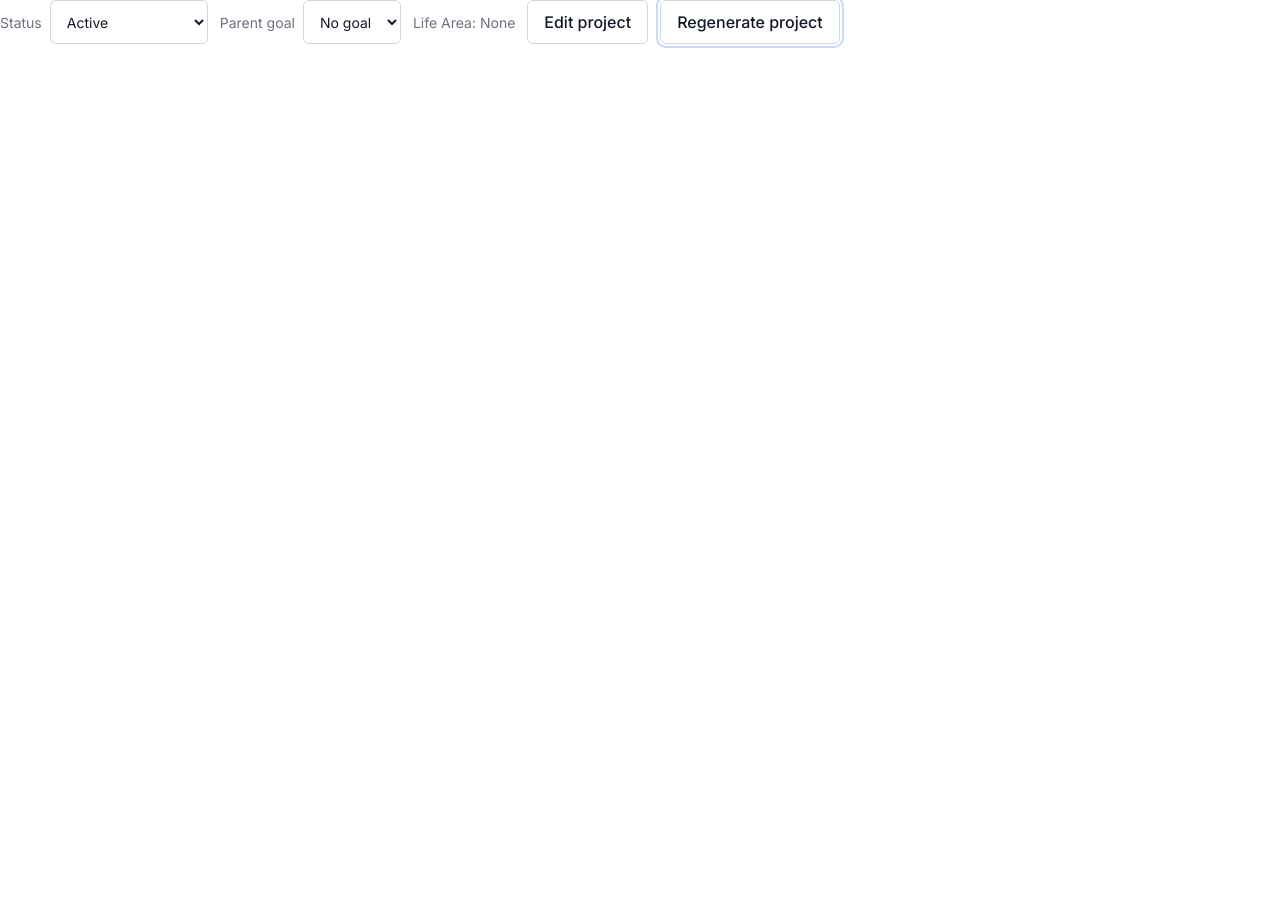
Test: ProjectDetailClient › surfaces a timeout message on a 504 regeneration
The width and height of the screenshot is (1280, 900).
Click the button "Regenerate project" at point(750, 22), box [660, 0, 840, 44]
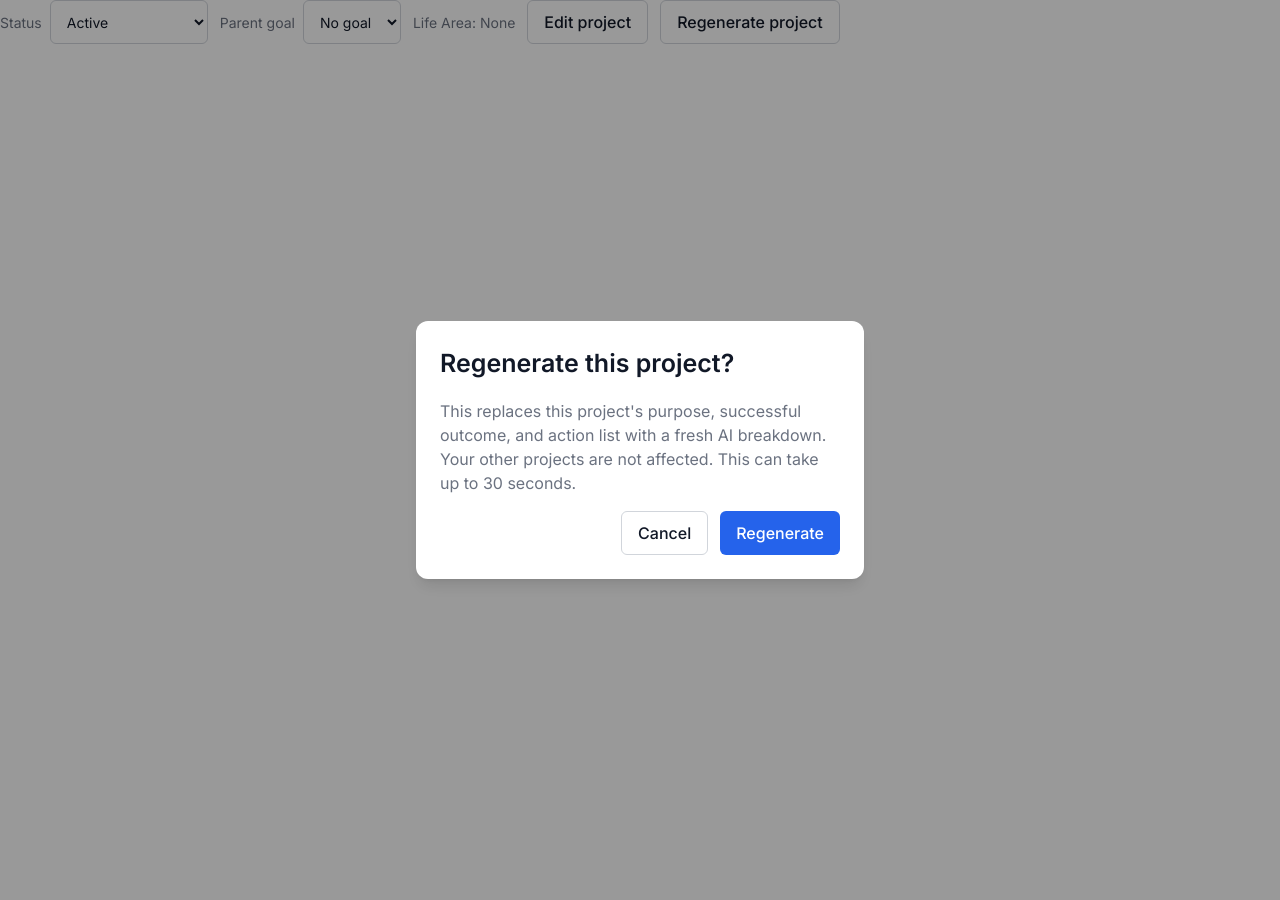
Click the button "Regenerate" at point(780, 533), box [720, 511, 840, 555]
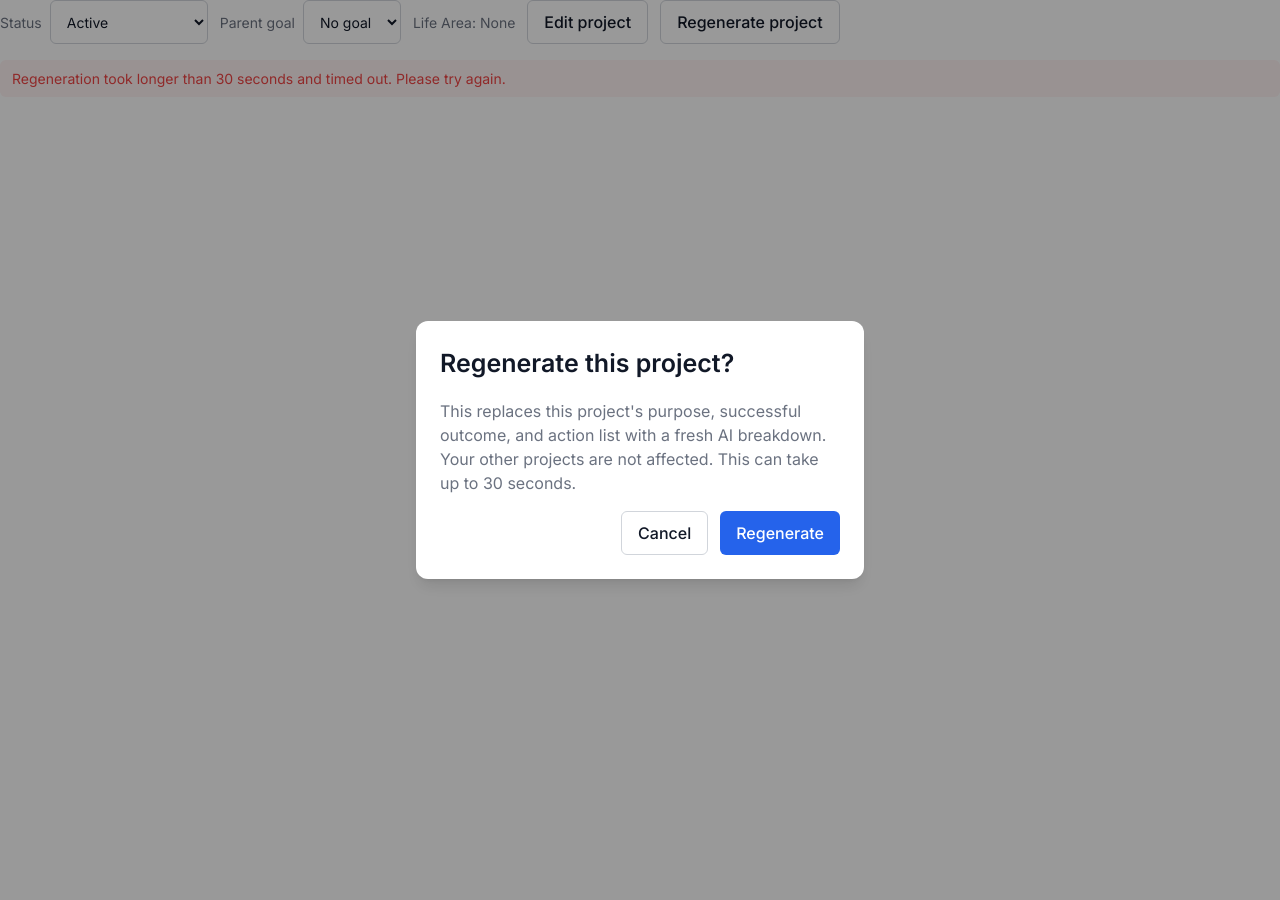
Expected: the message shows "timed out", [12, 70, 506, 87]
